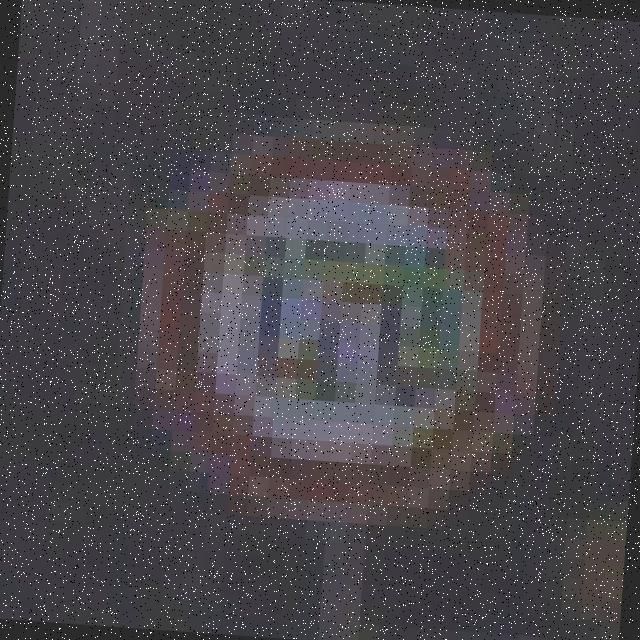Ograniczenie predkosci do 120: (140, 130, 541, 510)
